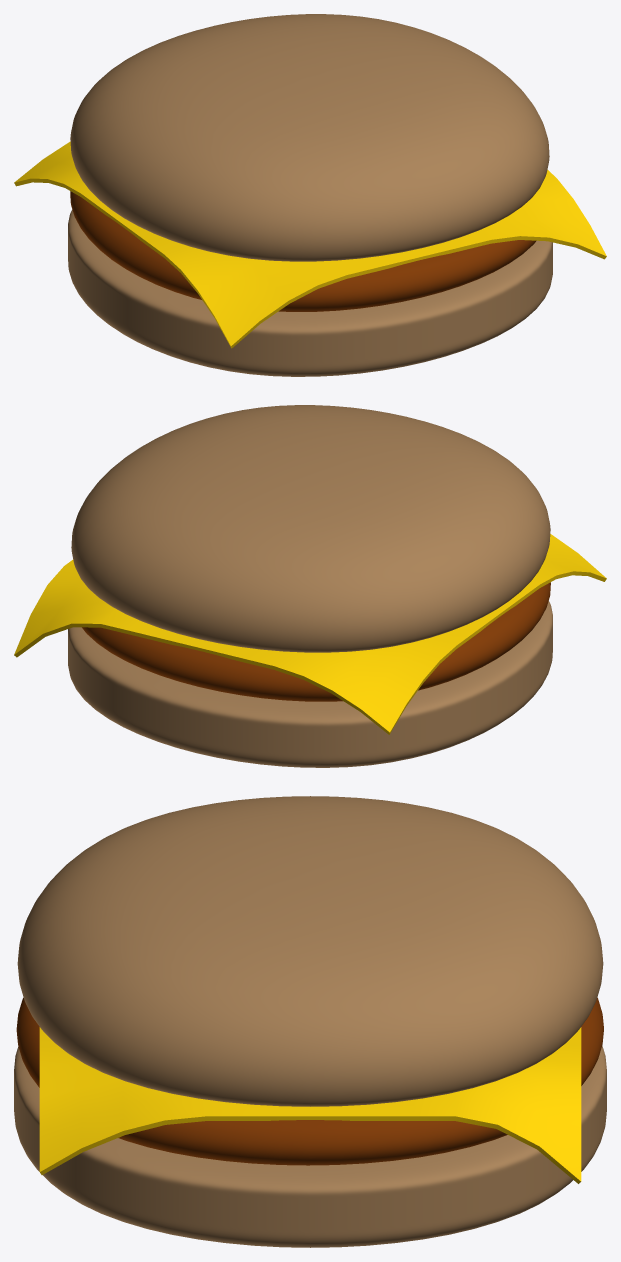
Rendered from hamburger.glb.
3 renders of one model, top to bottom at view 1: azimuth 30°, elevation 25°; view 2: azimuth 150°, elevation 25°; view 3: azimuth 270°, elevation 25°, orthographic. The views are drawn at different scales.
Parts seen in each view (by area): view 1: Cube.002, Cube, Plane, Cube.001; view 2: Cube.002, Cube, Plane, Cube.001; view 3: Cube.002, Cube, Plane, Cube.001.
Boxes of the visible parts, box(x1,y1,x2,y2) form: Cube.002: box(70, 14, 549, 261); Cube: box(68, 210, 552, 376); Plane: box(14, 141, 606, 348); Cube.001: box(70, 191, 536, 311); Cube.002: box(71, 405, 550, 652); Cube: box(68, 601, 552, 767); Plane: box(14, 534, 606, 734); Cube.001: box(82, 582, 550, 701); Cube.002: box(17, 796, 603, 1106); Cube: box(14, 1046, 606, 1247); Plane: box(39, 1027, 581, 1183); Cube.001: box(16, 997, 603, 1165).
Bounding box in the file's own units: 8.66 × 4.5 × 8.66.
